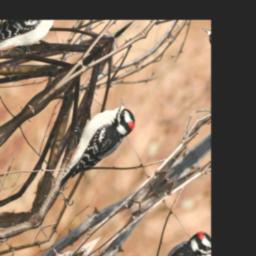Woodpecker: (39, 91, 141, 196)
